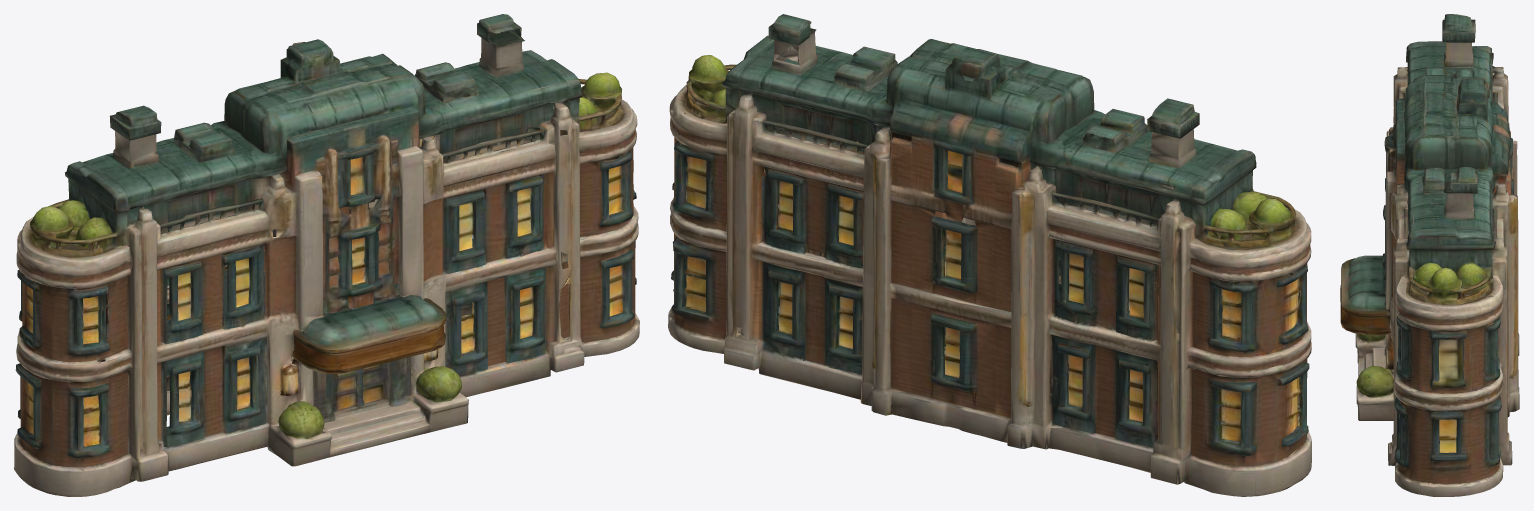
3 renders of one model, left to right at view 1: azimuth 30°, elevation 25°; view 2: azimuth 150°, elevation 25°; view 3: azimuth 270°, elevation 25°, orthographic. The views are drawn at different scales.
Parts seen in each view (by area): view 1: expansion__skyscraper_1__native_mobile; view 2: expansion__skyscraper_1__native_mobile; view 3: expansion__skyscraper_1__native_mobile.
Part boxes in pixels (box(x1,y1,x2,y2)): expansion__skyscraper_1__native_mobile: box(14, 14, 639, 496); expansion__skyscraper_1__native_mobile: box(668, 14, 1311, 496); expansion__skyscraper_1__native_mobile: box(1340, 14, 1519, 496).
Size of the model in its own units: 1 by 0.5586 by 0.3003.
1 material, 1 textured.
